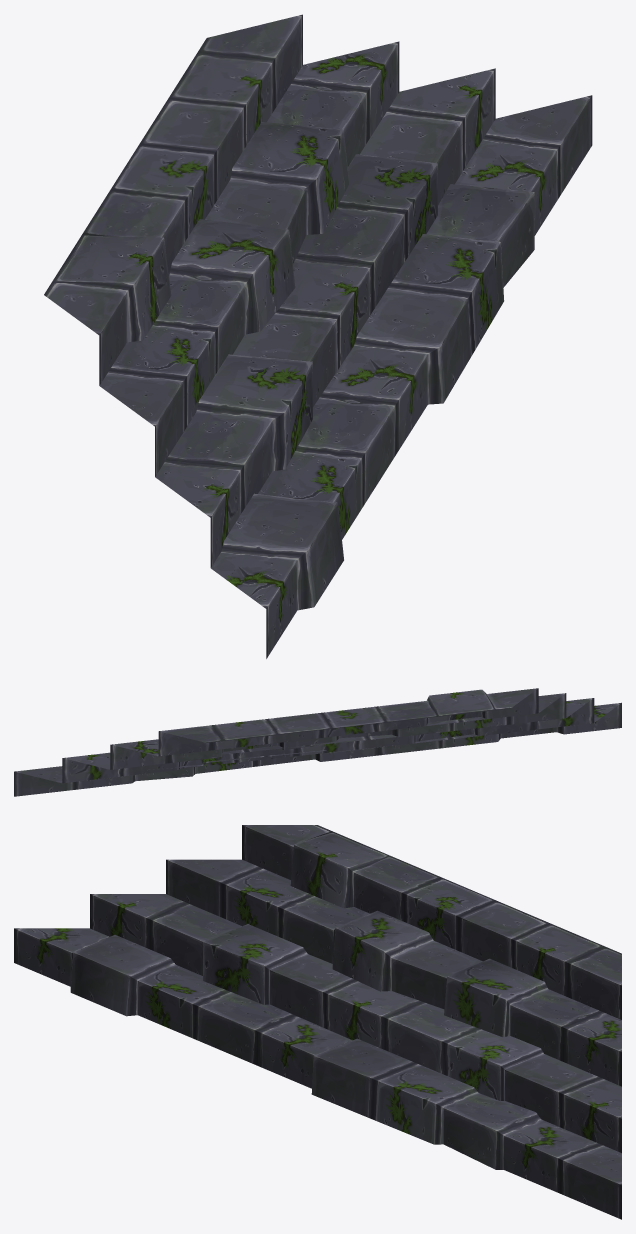
File: MOD_Stairs_01_E_angle_convex_5.fbx
The picture shows the model from 3 angles, top to bottom: view 1: azimuth 30°, elevation 25°; view 2: azimuth 150°, elevation 25°; view 3: azimuth 270°, elevation 25°; orthographic projection. The views are drawn at different scales.
Visible parts, largest first — view 1: MOD_Stairs_01_E_angle_convex_5; view 2: MOD_Stairs_01_E_angle_convex_5; view 3: MOD_Stairs_01_E_angle_convex_5.
Part boxes in pixels (left/top/right/bottom): MOD_Stairs_01_E_angle_convex_5: left=44, top=14, right=592, bottom=658; MOD_Stairs_01_E_angle_convex_5: left=14, top=688, right=621, bottom=796; MOD_Stairs_01_E_angle_convex_5: left=14, top=825, right=621, bottom=1219.
Size of the model in its own units: 400 by 104 by 400.
